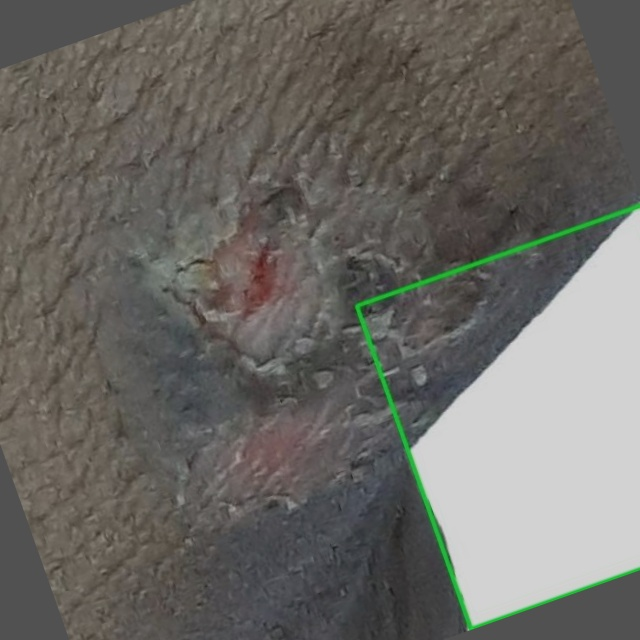Contact Dermatitis: (356, 205, 639, 629)
